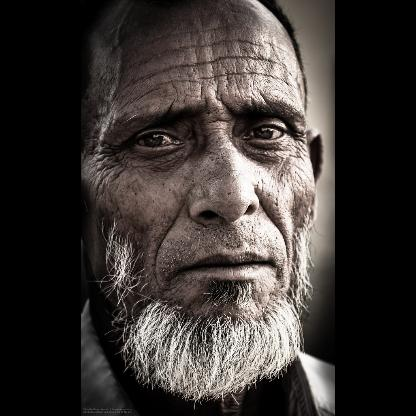Male: (87, 0, 316, 402)
